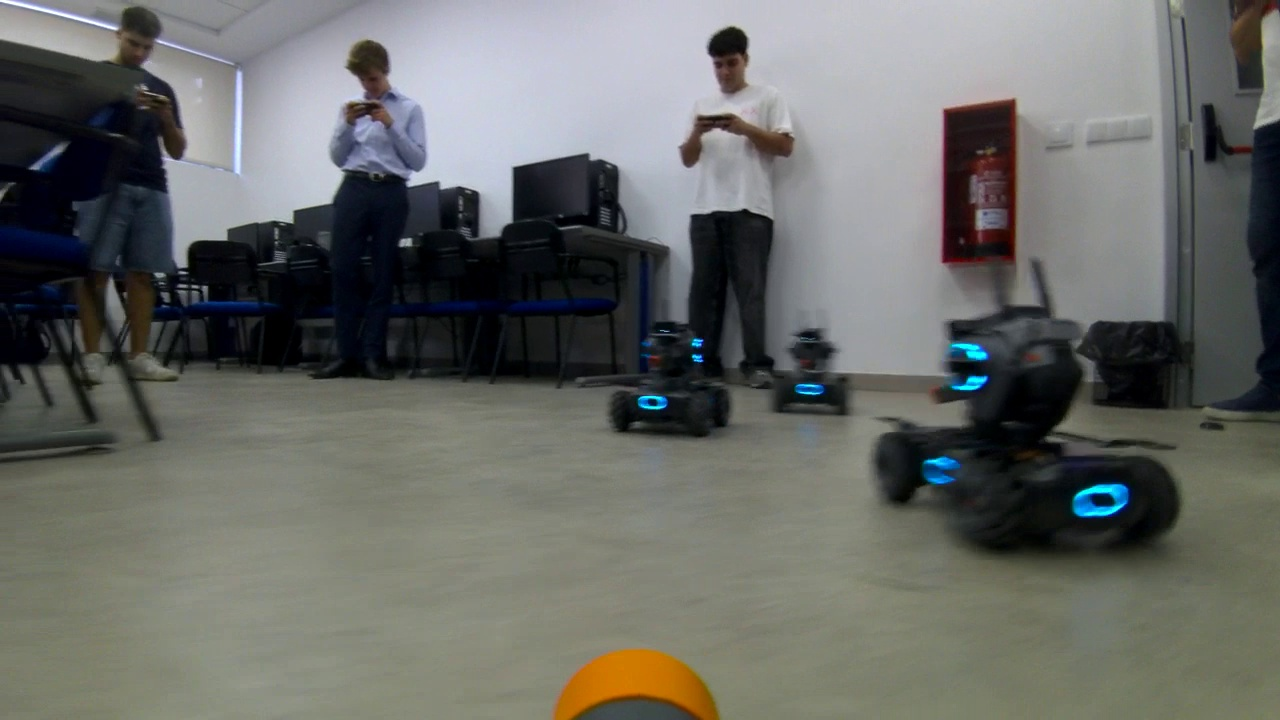robot: (878, 258, 1182, 557), (601, 315, 756, 445), (768, 306, 854, 429)
